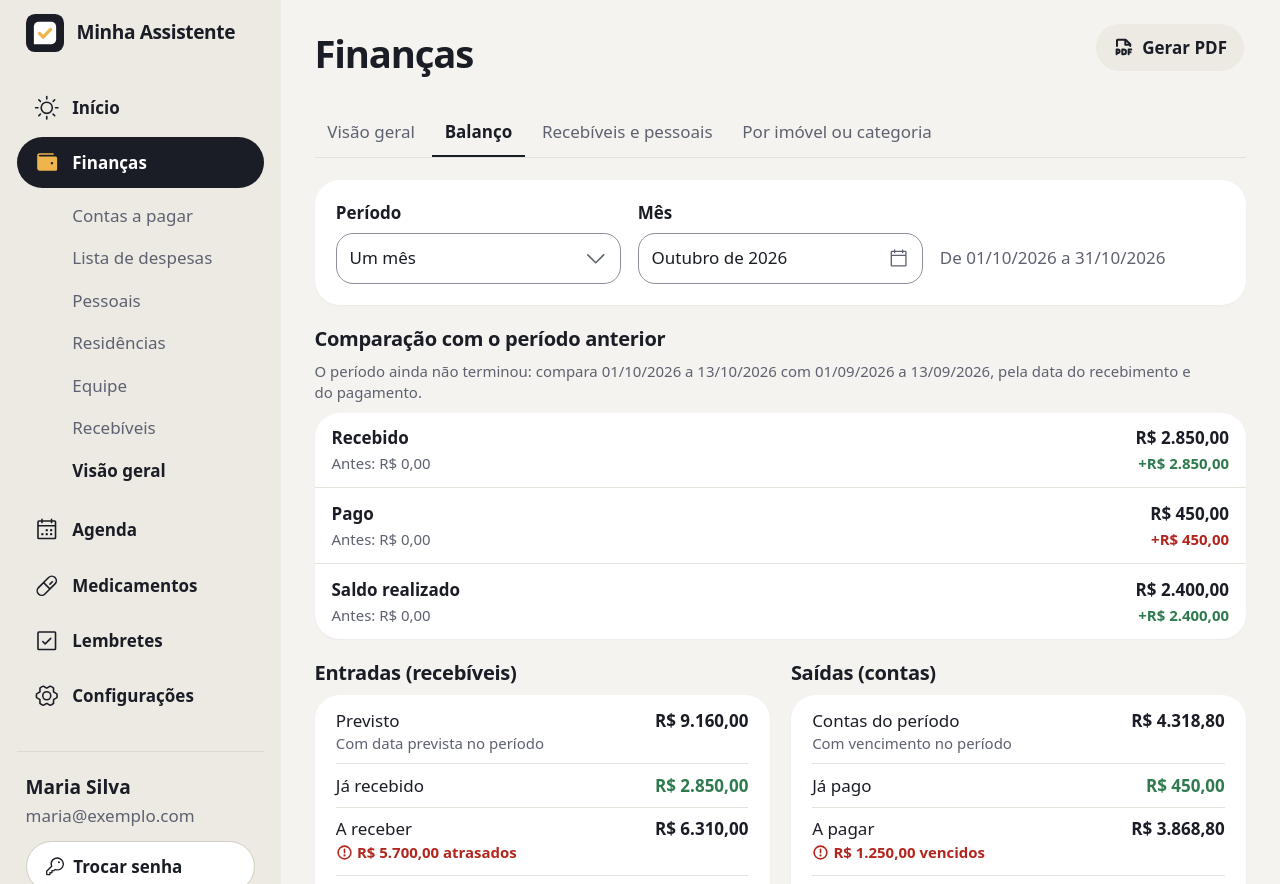
Test: Finanças → Visão geral › período do relatório: qualquer mês pela grade e o intervalo personalizado, um limitando o outro
Expected: the text "De 01/10/2026 a 31/10/2026" is shown, x1=940 y1=246 x2=1166 y2=269
Click the button named "Mês": (780, 258) x1=638 y1=233 x2=923 y2=284
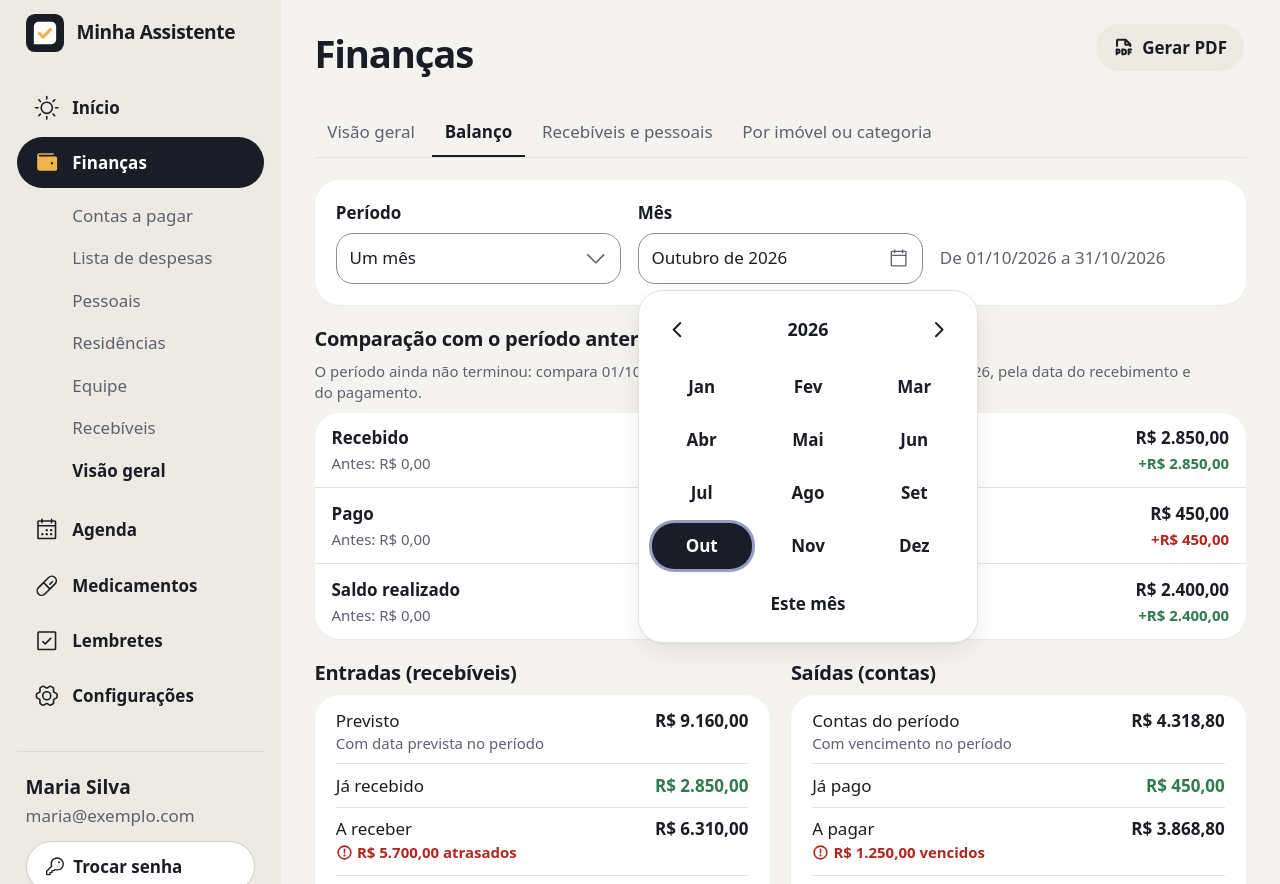
Click the button named "Ano anterior": (677, 329) x1=652 y1=304 x2=703 y2=355
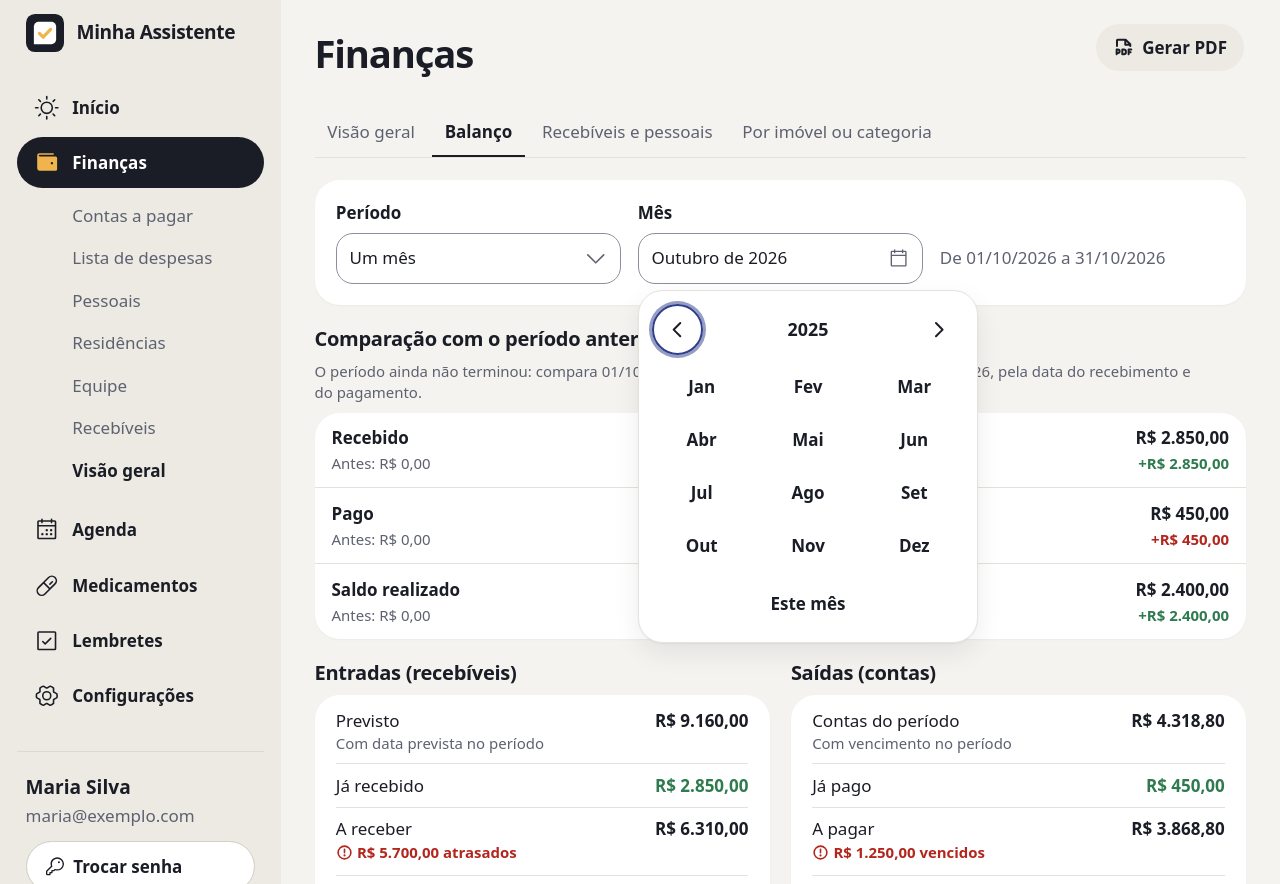
Click the button with aria-label "Fevereiro de 2025": (808, 387) x1=758 y1=363 x2=858 y2=410
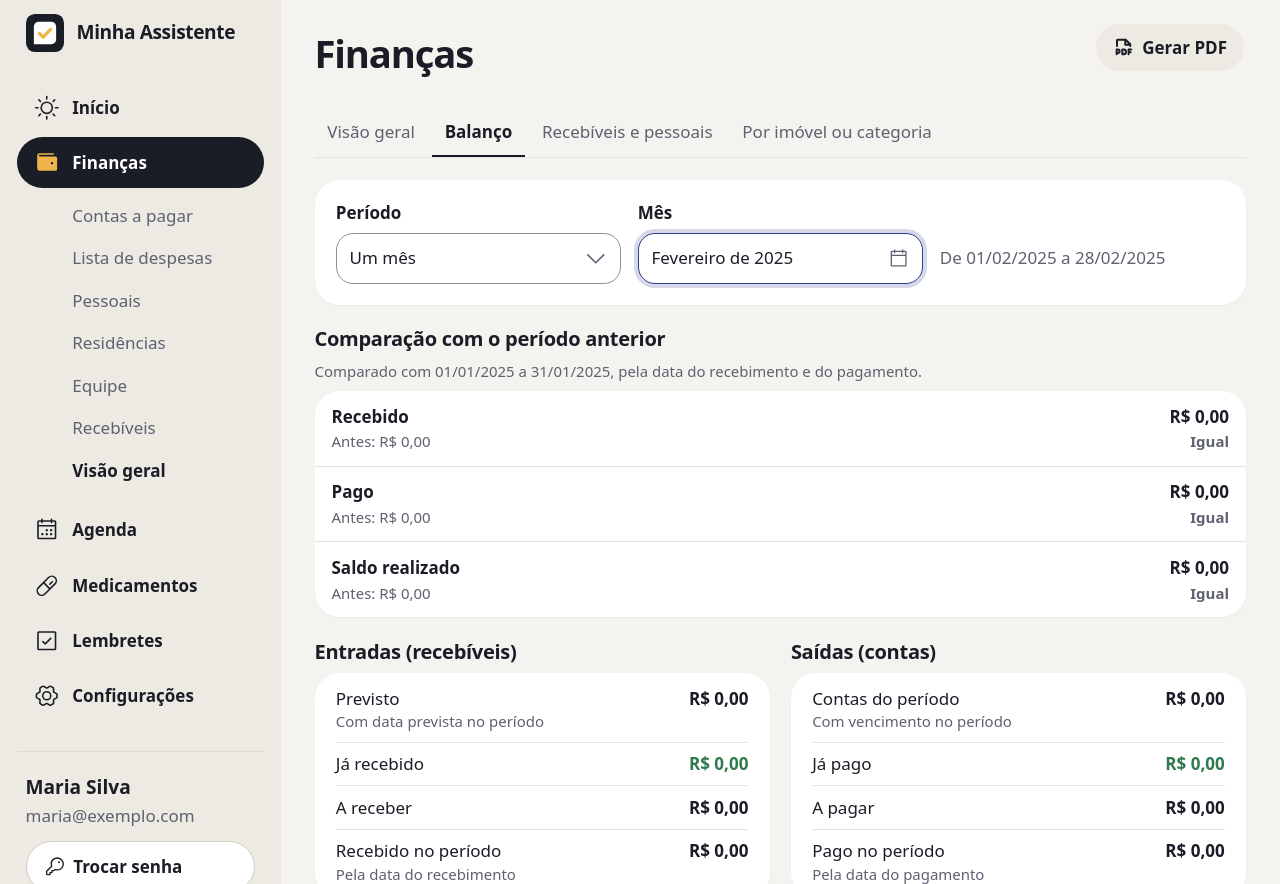
Now the text "De 01/02/2025 a 28/02/2025" is shown, box x1=940 y1=246 x2=1166 y2=269
Select "Escolher datas" in the dropdown labelled "Período": (478, 258) x1=336 y1=233 x2=621 y2=284
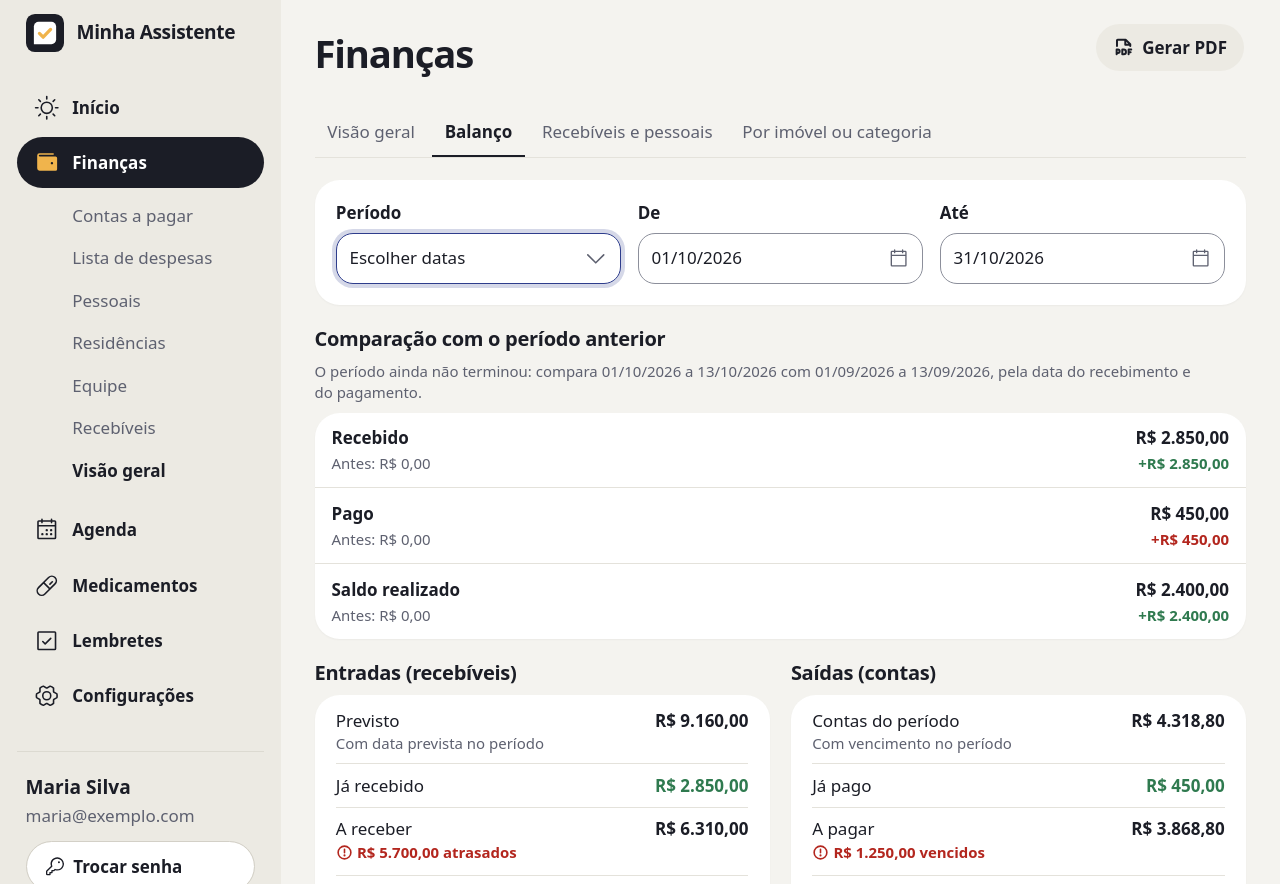
Now the button named "De" reads "01/10/2026", box x1=638 y1=233 x2=923 y2=284
Click the button named "Até": (999, 258) x1=940 y1=233 x2=1225 y2=284
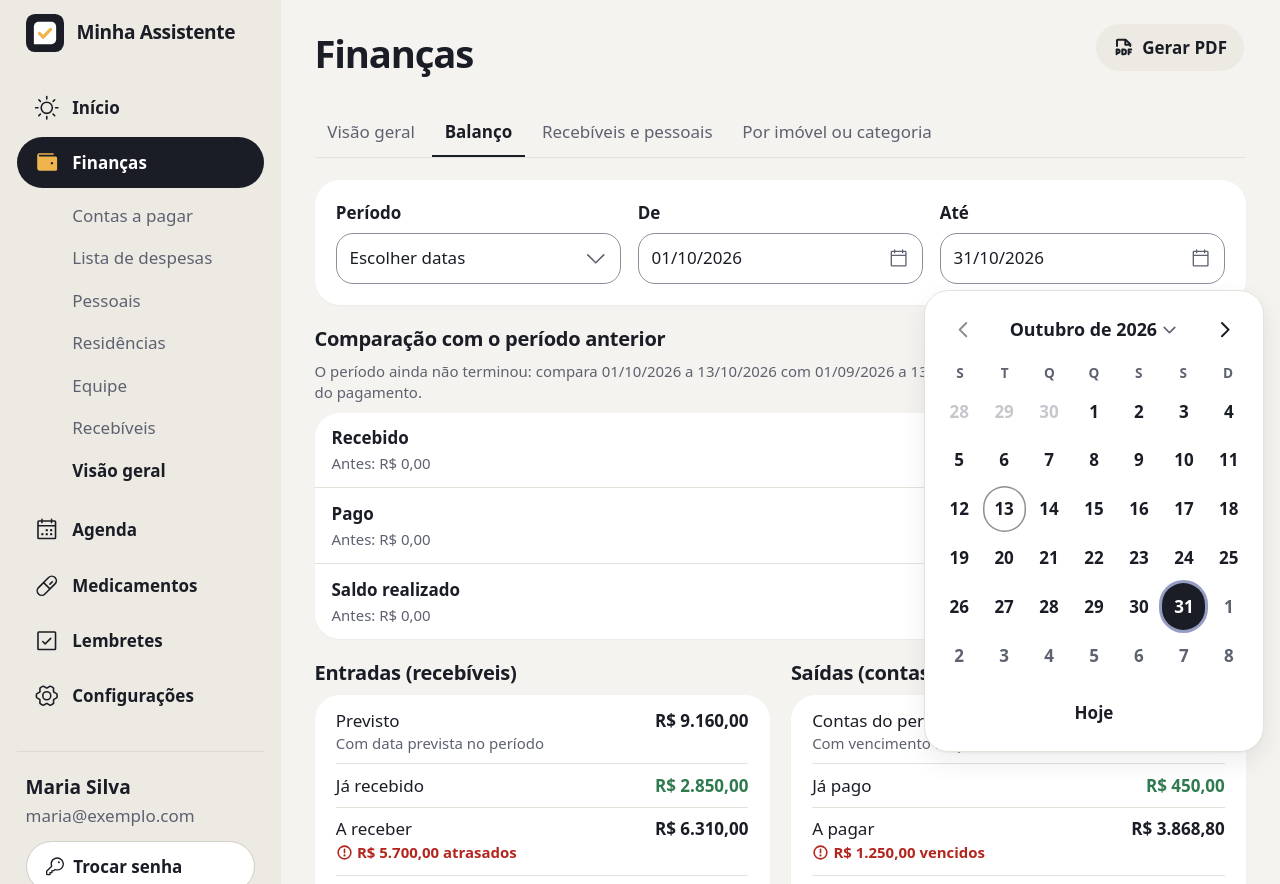
Now the button named "30 de setembro" is disabled, box x1=1028 y1=388 x2=1070 y2=435
Click the button named "15 de outubro": (1094, 509) x1=1073 y1=486 x2=1115 y2=532
(page scrolled)
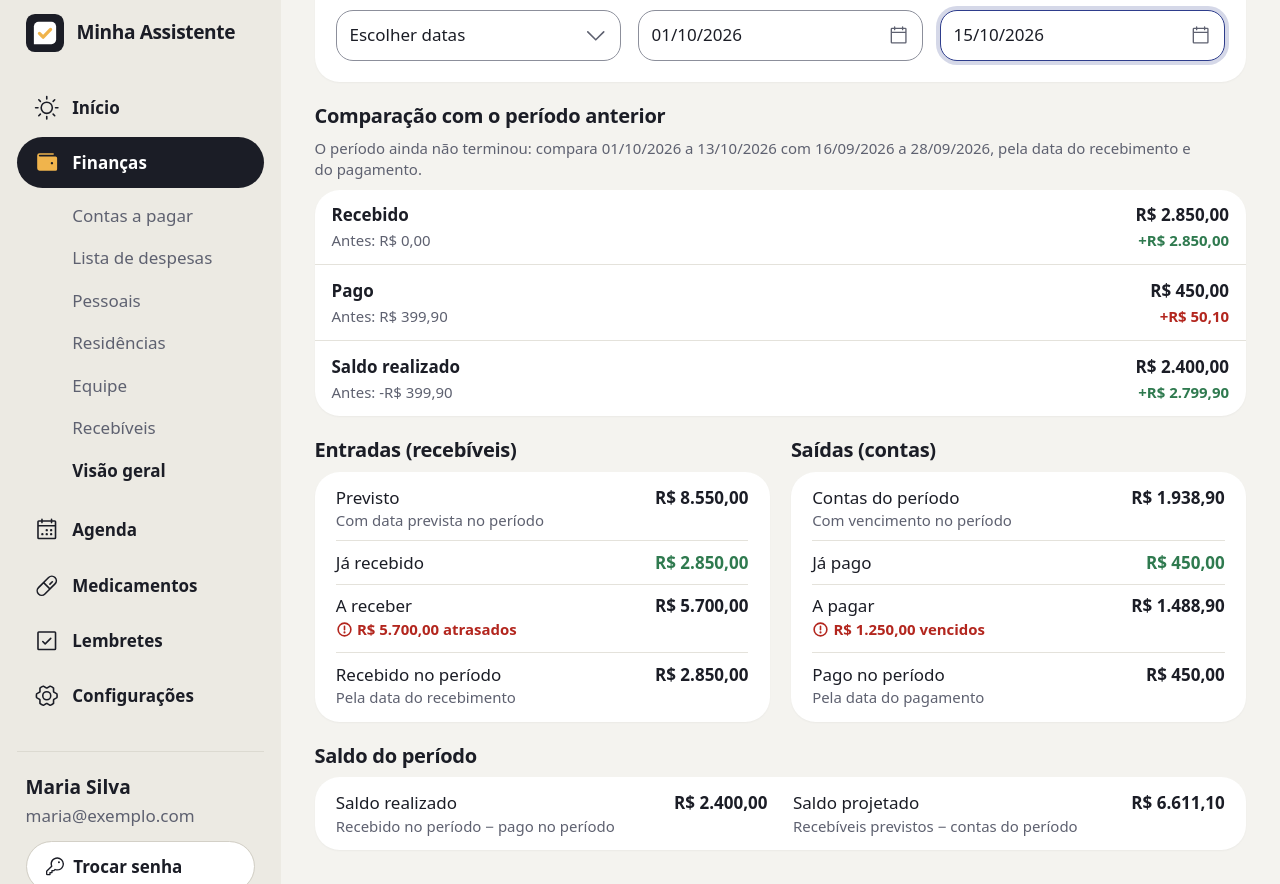
Expected: the element "Entradas (recebíveis)" is shown, x1=314 y1=437 x2=770 y2=722
Now the button named "Até" reads "15/10/2026", box x1=940 y1=10 x2=1225 y2=61
